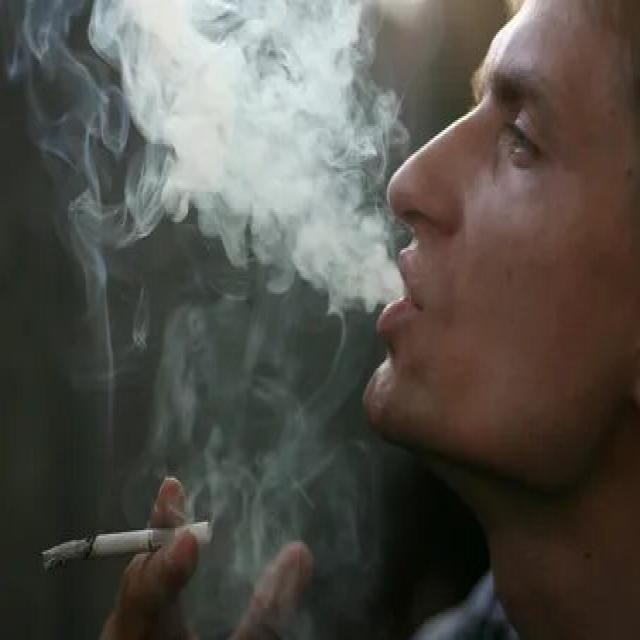cigarette: (37, 518, 216, 576)
